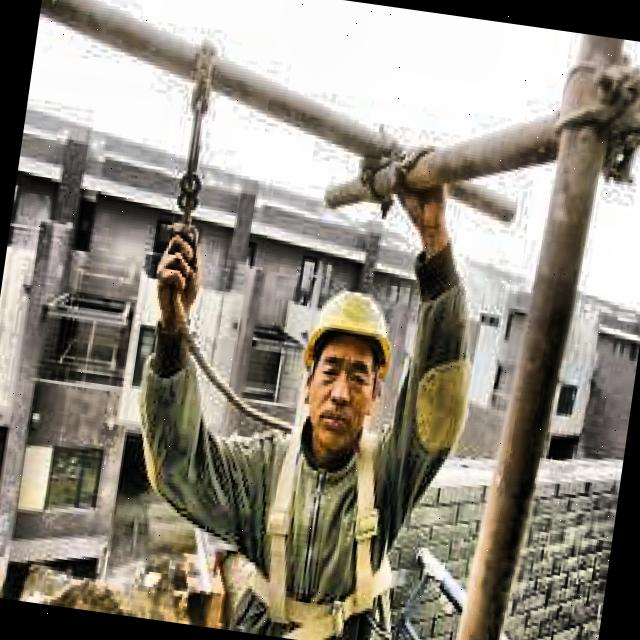helmet: (276, 261, 411, 462)
